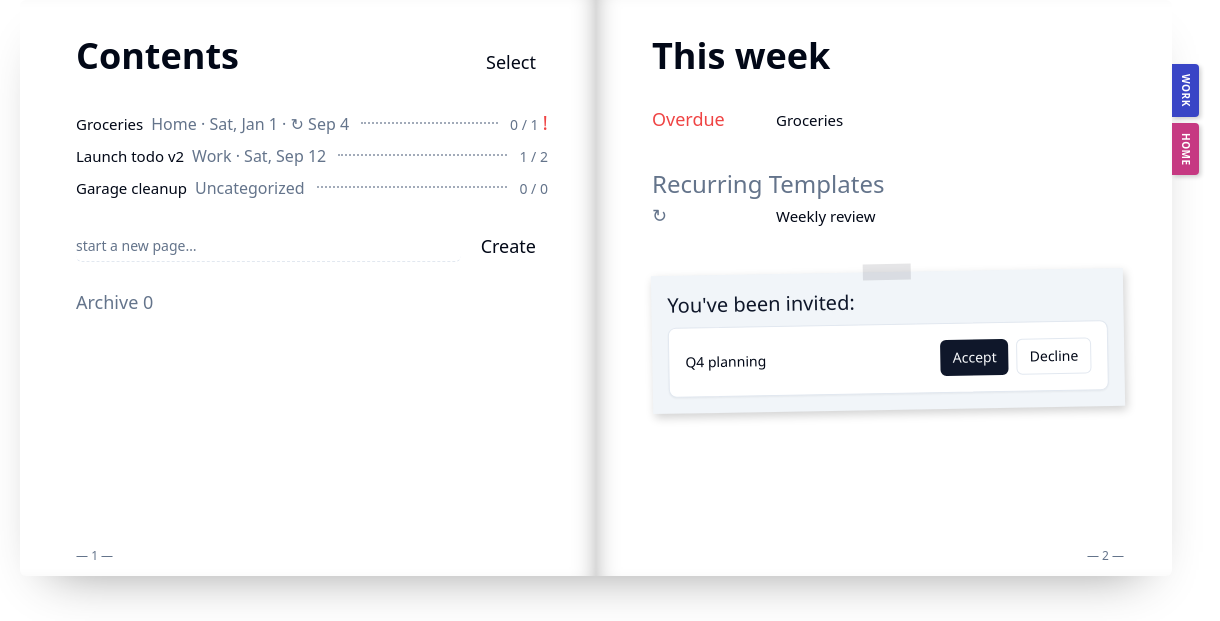
layout: notebook › lists page offers bulk selection for owned lists only
Click the button "Select" at point(511, 62), box top-left (474, 48), bottom-right (548, 76)
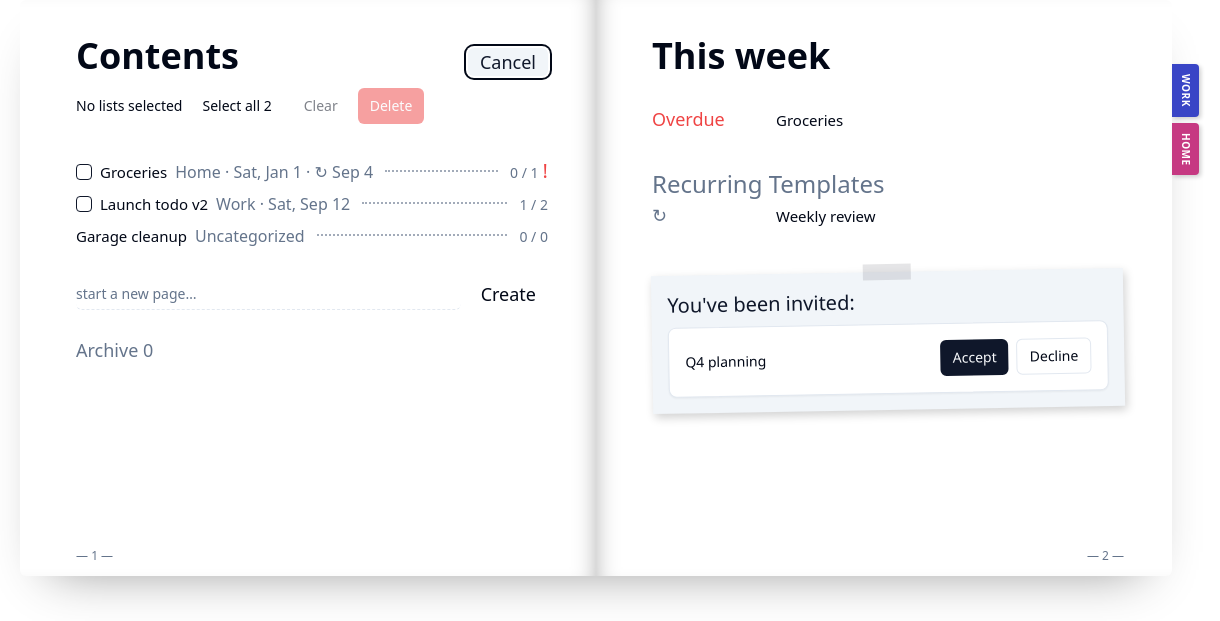
Now the checkbox named "Select Launch todo v2" is shown, box top-left (76, 196), bottom-right (92, 212)
Now the button "Select all 2" is shown, box top-left (190, 88), bottom-right (284, 124)
Now the button "Delete" is shown, box top-left (358, 88), bottom-right (424, 124)
